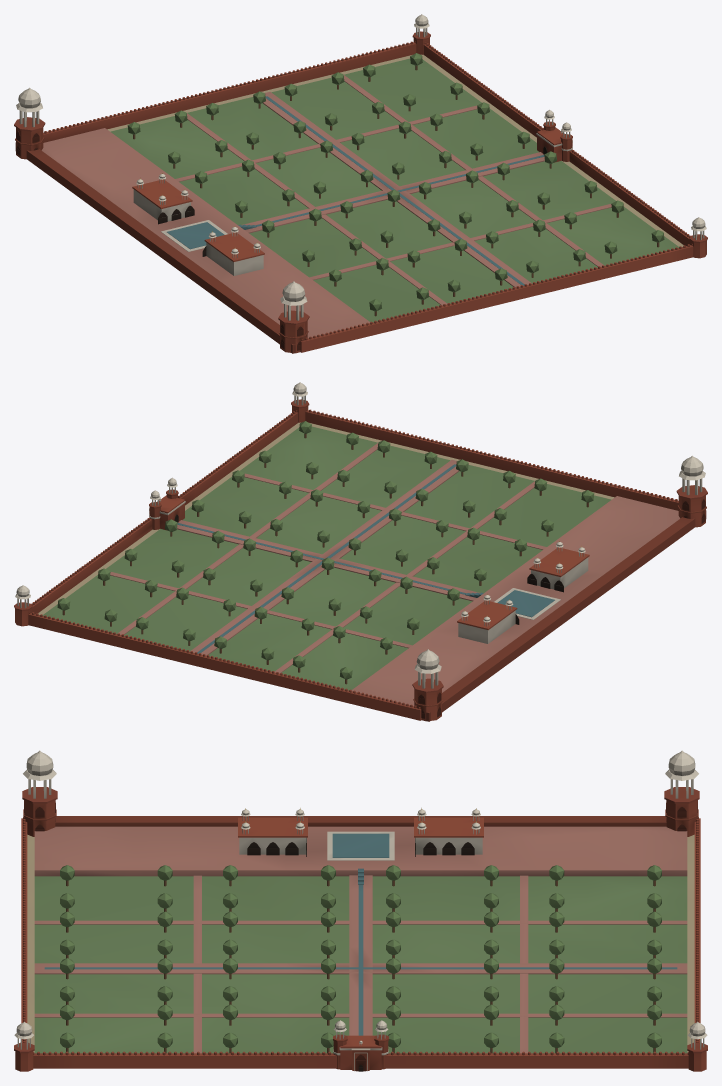
The model's file is aram-bagh.glb.
3 views of the same model, one above another, from view 1: azimuth 30°, elevation 25°; view 2: azimuth 150°, elevation 25°; view 3: azimuth 270°, elevation 25° (orthographic). The views are drawn at different scales.
Visible parts, largest first — view 1: p1_garden, p0_walls, p2_pavilions; view 2: p1_garden, p0_walls, p2_pavilions; view 3: p1_garden, p0_walls, p2_pavilions.
Boxes of the visible parts, x1=… form: p1_garden: x1=41, y1=53, x2=679, y2=338; p0_walls: x1=14, y1=14, x2=707, y2=353; p2_pavilions: x1=132, y1=173, x2=264, y2=275; p1_garden: x1=42, y1=421, x2=680, y2=706; p0_walls: x1=14, y1=382, x2=707, y2=721; p2_pavilions: x1=457, y1=541, x2=589, y2=643; p1_garden: x1=34, y1=826, x2=687, y2=1053; p0_walls: x1=14, y1=750, x2=707, y2=1071; p2_pavilions: x1=238, y1=808, x2=483, y2=860.
Size of the model in its own units: 227 by 34.58 by 268.
